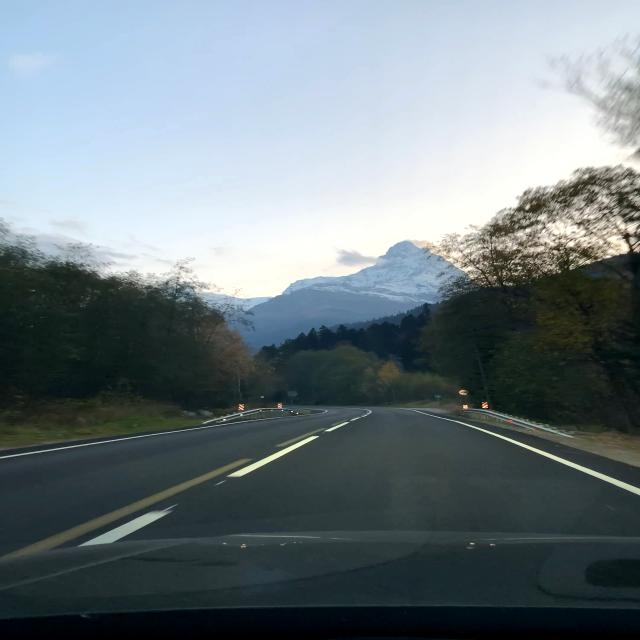lane: (435, 416, 639, 493), (130, 468, 224, 507), (83, 506, 174, 545), (229, 437, 315, 478)
road: (0, 407, 639, 637)
